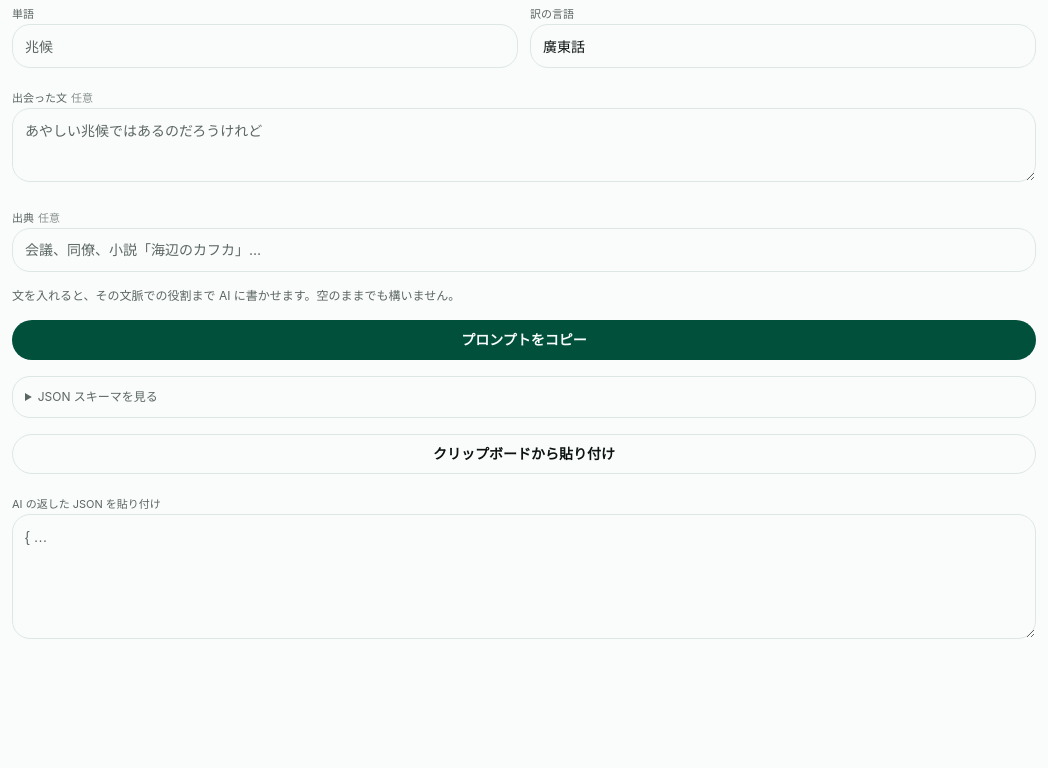
JsonImport — pasting from the clipboard › says a refused clipboard was refused, which is the defect #59 fixed the other way
The image size is (1048, 768).
Click the button "クリップボードから貼り付け" at (524, 454), box x1=12 y1=434 x2=1036 y2=474
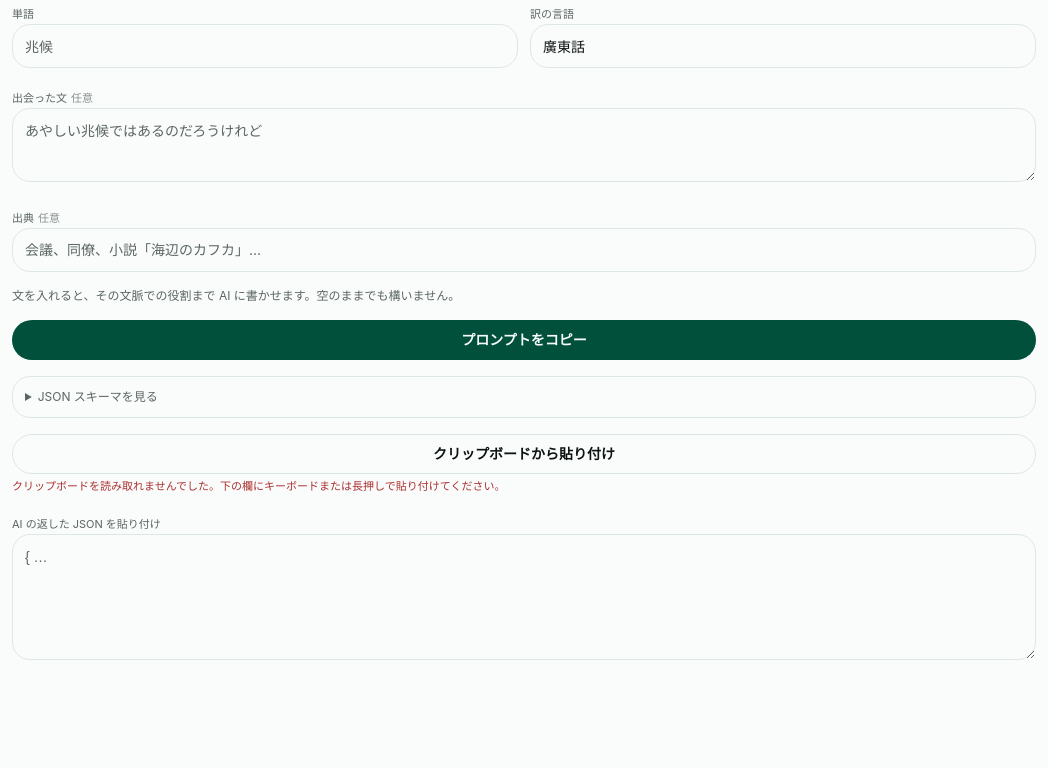
Expected: the text "クリップボードを読み取れませんでした。下の欄にキーボードまたは長押しで貼り付けてください。" is shown, x1=12 y1=479 x2=506 y2=493
